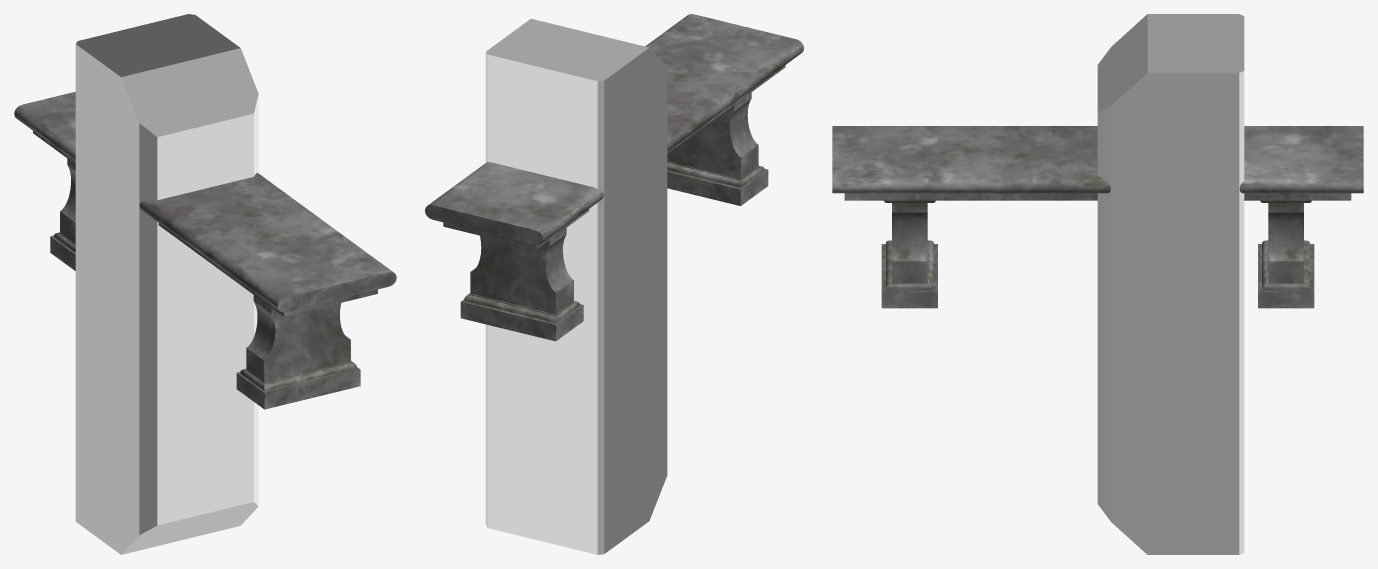
File: SM_Bench_02.fbx
3 views of the same model, side by side, from view 1: azimuth 30°, elevation 25°; view 2: azimuth 150°, elevation 25°; view 3: azimuth 270°, elevation 25° (orthographic).
Parts seen in each view (by area): view 1: SM_Bench_02_ConvexHulls, SM_Bench_02_LOD0; view 2: SM_Bench_02_ConvexHulls, SM_Bench_02_LOD0; view 3: SM_Bench_02_ConvexHulls, SM_Bench_02_LOD0.
Part boxes in pixels (bbox=[...]): SM_Bench_02_ConvexHulls: bbox=[75, 14, 258, 554]; SM_Bench_02_LOD0: bbox=[14, 91, 396, 409]; SM_Bench_02_ConvexHulls: bbox=[485, 18, 667, 554]; SM_Bench_02_LOD0: bbox=[425, 14, 803, 341]; SM_Bench_02_ConvexHulls: bbox=[1097, 14, 1244, 554]; SM_Bench_02_LOD0: bbox=[832, 126, 1363, 308].
Size of the model in its own units: 47.49 by 181 by 181.
